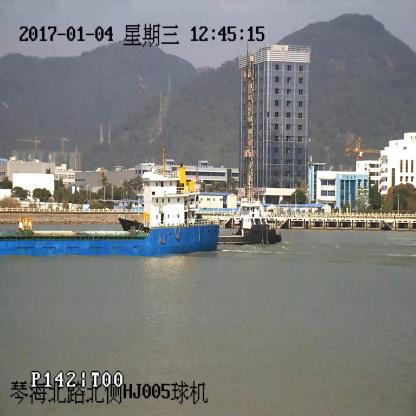Bulk Carrier: (0, 170, 220, 258), (220, 198, 281, 246)
